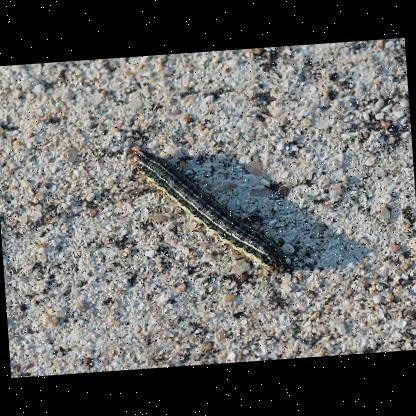Fall Armyworm Larvae: (125, 135, 294, 293)
